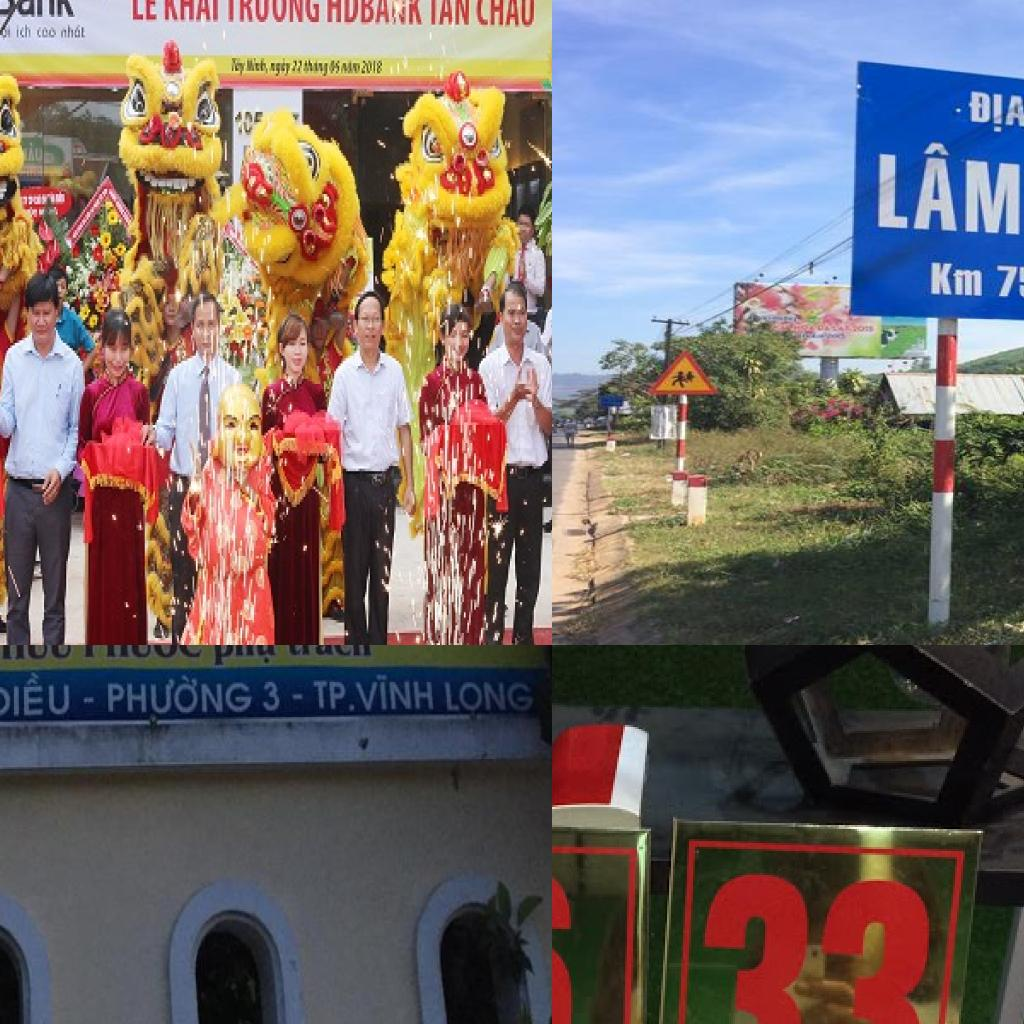text: (689, 869, 939, 1024), (876, 133, 1024, 238), (104, 670, 254, 719), (443, 674, 541, 720), (350, 670, 440, 719), (0, 668, 75, 723), (325, 0, 424, 29), (223, 0, 322, 27), (966, 90, 1024, 136), (82, 645, 206, 665), (929, 260, 987, 299), (310, 674, 359, 717), (0, 645, 77, 670), (211, 645, 280, 672), (474, 0, 537, 29), (285, 645, 376, 665), (0, 0, 78, 22), (163, 0, 221, 24), (426, 0, 472, 27), (258, 677, 288, 717), (995, 264, 1024, 301), (130, 0, 158, 24), (270, 56, 294, 81), (60, 22, 88, 43), (303, 58, 331, 79), (235, 112, 256, 137), (360, 60, 385, 78), (15, 22, 32, 43), (80, 692, 100, 709), (290, 689, 309, 705), (292, 58, 305, 76)
